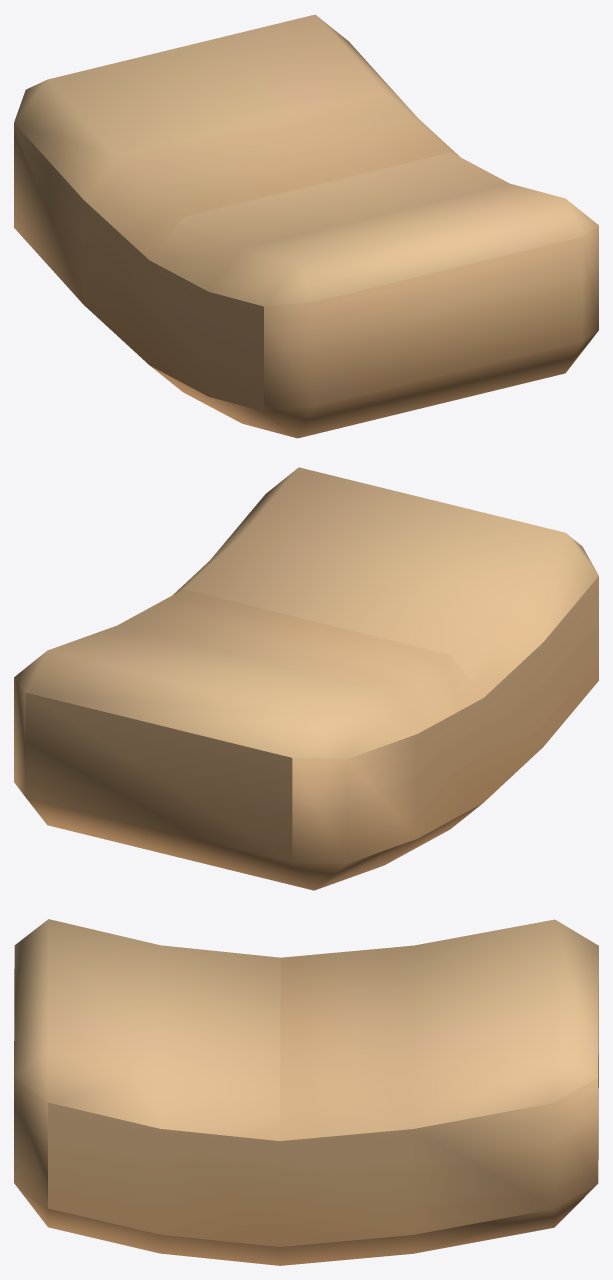
Rendered from sack.glb.
3 views of the same model, one above another, from view 1: azimuth 30°, elevation 25°; view 2: azimuth 150°, elevation 25°; view 3: azimuth 270°, elevation 25° (orthographic).
Visible parts, largest first — view 1: sack; view 2: sack; view 3: sack.
Part boxes in pixels (bbox=[...]): sack: bbox=[14, 14, 598, 438]; sack: bbox=[14, 467, 598, 890]; sack: bbox=[14, 919, 598, 1265].
Size of the model in its own units: 0.1065 by 0.0647 by 0.1595.
1 material, 1 textured.
